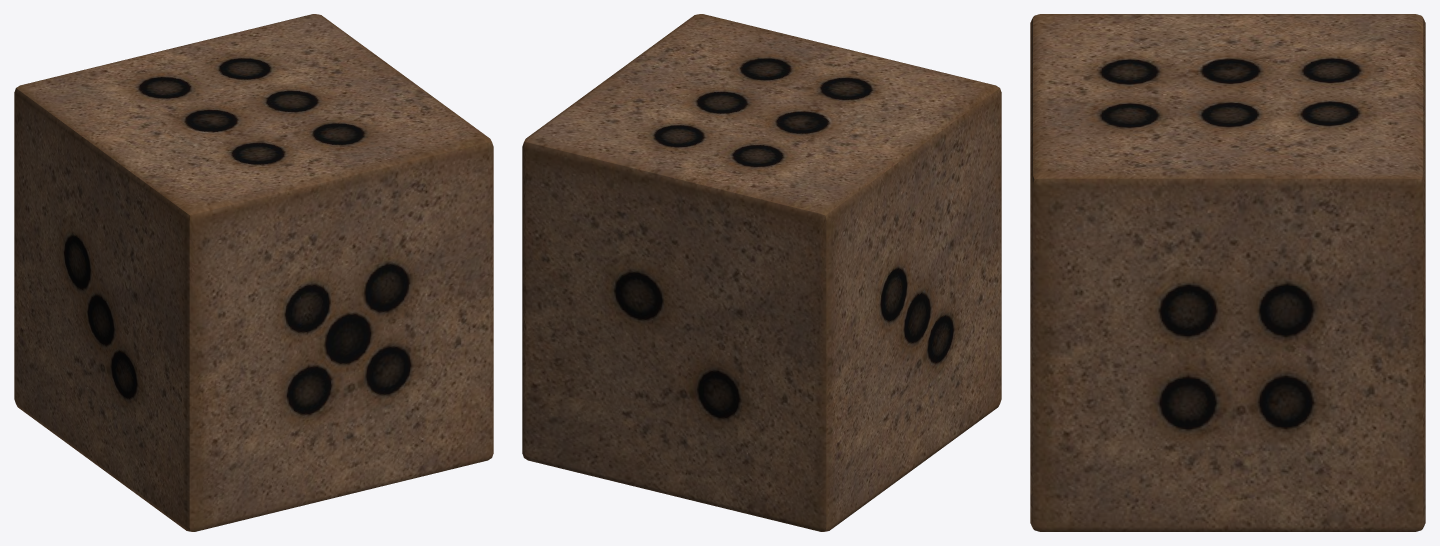
Rendered from dice-v1.glb.
The picture shows the model from 3 angles, left to right: view 1: azimuth 30°, elevation 25°; view 2: azimuth 150°, elevation 25°; view 3: azimuth 270°, elevation 25°; orthographic projection. The views are drawn at different scales.
Visible parts, largest first — view 1: SM_AR20003; view 2: SM_AR20003; view 3: SM_AR20003.
Part boxes in pixels (x1=…): SM_AR20003: x1=14, y1=14, x2=493, y2=531; SM_AR20003: x1=522, y1=14, x2=1001, y2=531; SM_AR20003: x1=1030, y1=14, x2=1425, y2=531.
Bounding box in the file's own units: 2 × 2 × 2.
1 material, 1 textured.
